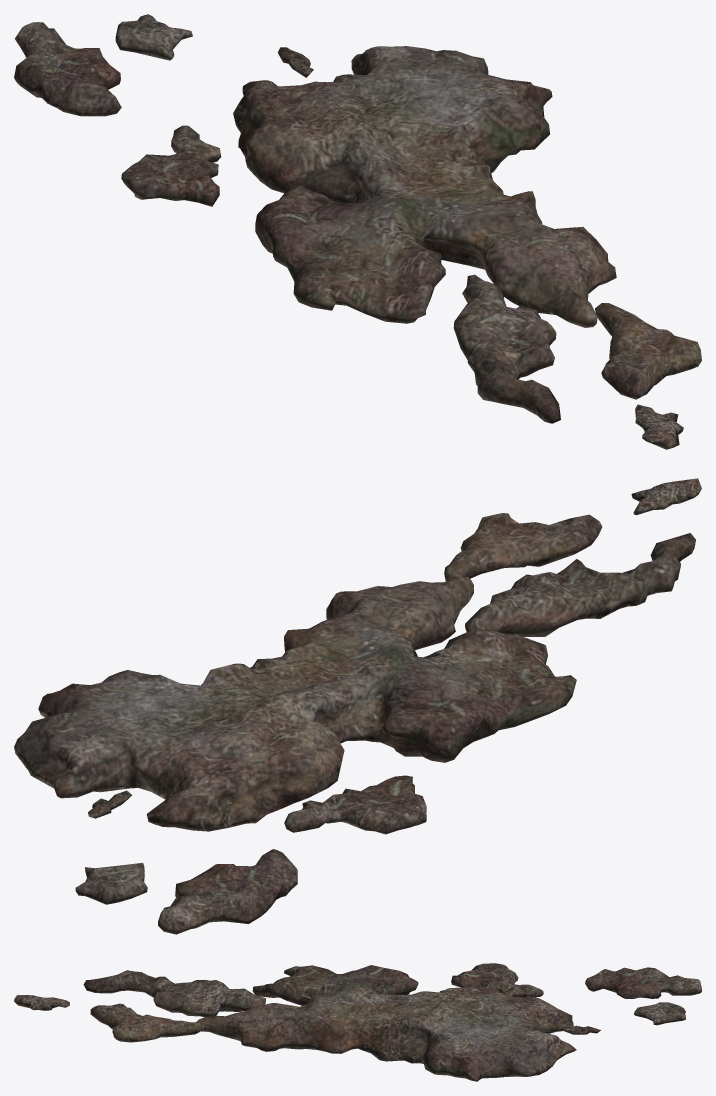
File: sm20_025_smallfatberg01a.fbx
The picture shows the model from 3 angles, top to bottom: view 1: azimuth 30°, elevation 25°; view 2: azimuth 150°, elevation 25°; view 3: azimuth 270°, elevation 25°; orthographic projection. The views are drawn at different scales.
Parts seen in each view (by area): view 1: LOD_1_Group_0_Sub_1__sm20_025_SmallFatBerg01A_A_Mat; view 2: LOD_1_Group_0_Sub_1__sm20_025_SmallFatBerg01A_A_Mat; view 3: LOD_1_Group_0_Sub_1__sm20_025_SmallFatBerg01A_A_Mat.
Part boxes in pixels (bbox=[...]): LOD_1_Group_0_Sub_1__sm20_025_SmallFatBerg01A_A_Mat: bbox=[14, 14, 701, 449]; LOD_1_Group_0_Sub_1__sm20_025_SmallFatBerg01A_A_Mat: bbox=[14, 478, 701, 934]; LOD_1_Group_0_Sub_1__sm20_025_SmallFatBerg01A_A_Mat: bbox=[14, 963, 701, 1081].
Size of the model in its own units: 1.85 by 0.3438 by 4.68.
